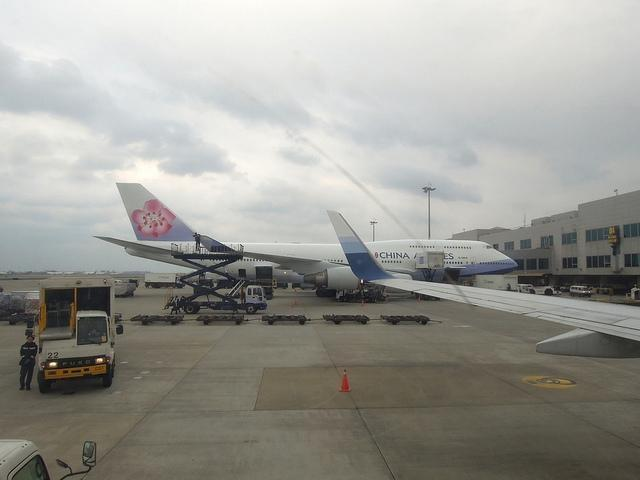car: (560, 284, 572, 292)
truck: (36, 274, 122, 394), (1, 437, 98, 480), (175, 286, 267, 314), (334, 276, 388, 301)
